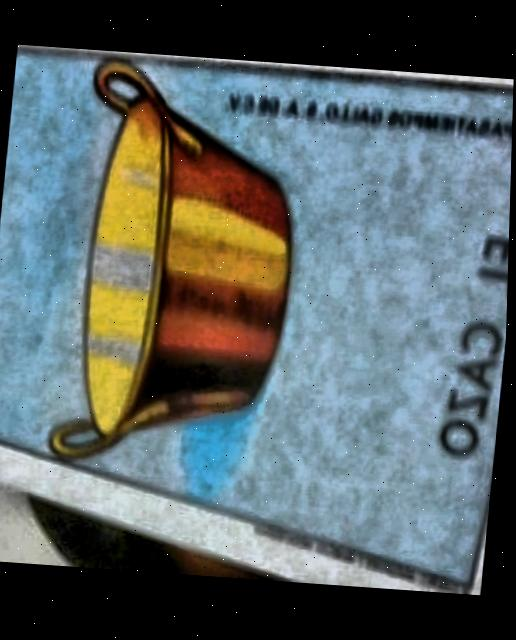El Cazo: (0, 48, 514, 588)
